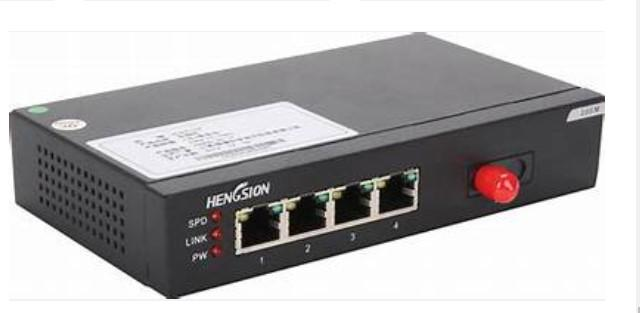NetworkSwitch: (8, 30, 605, 299)
